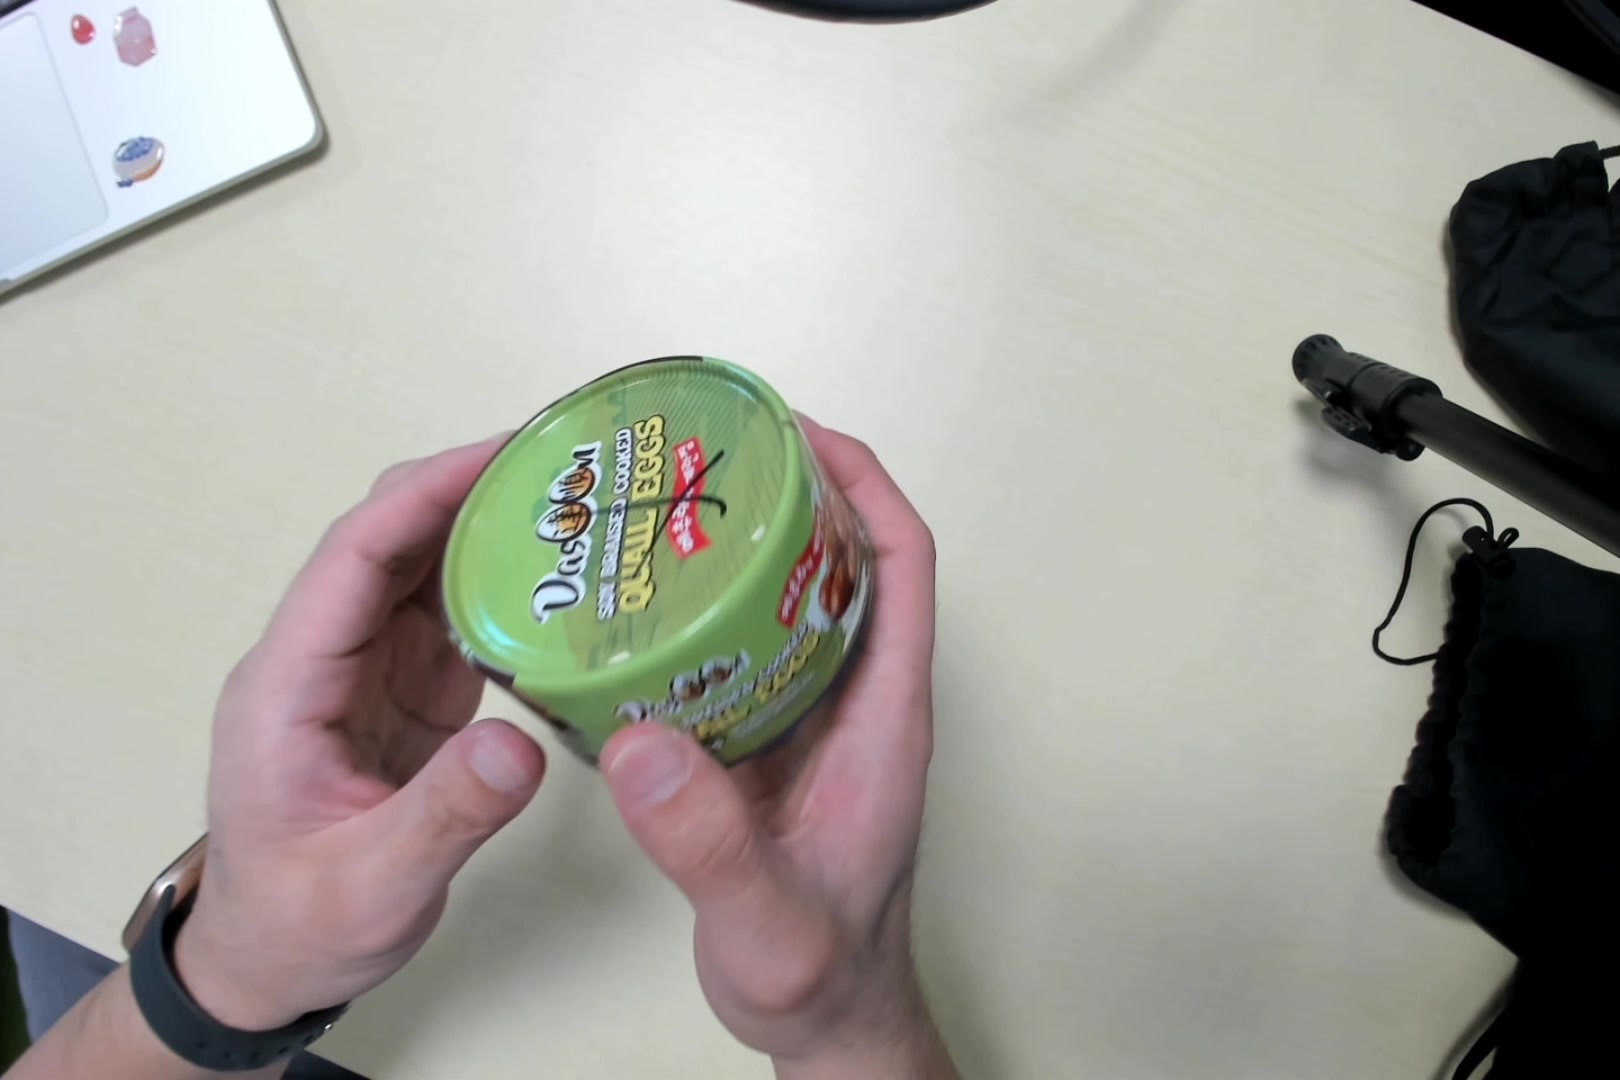CannedPorkLunchronMeat_100-199g_NonHalal_NonHealthy: (448, 360, 873, 765)
